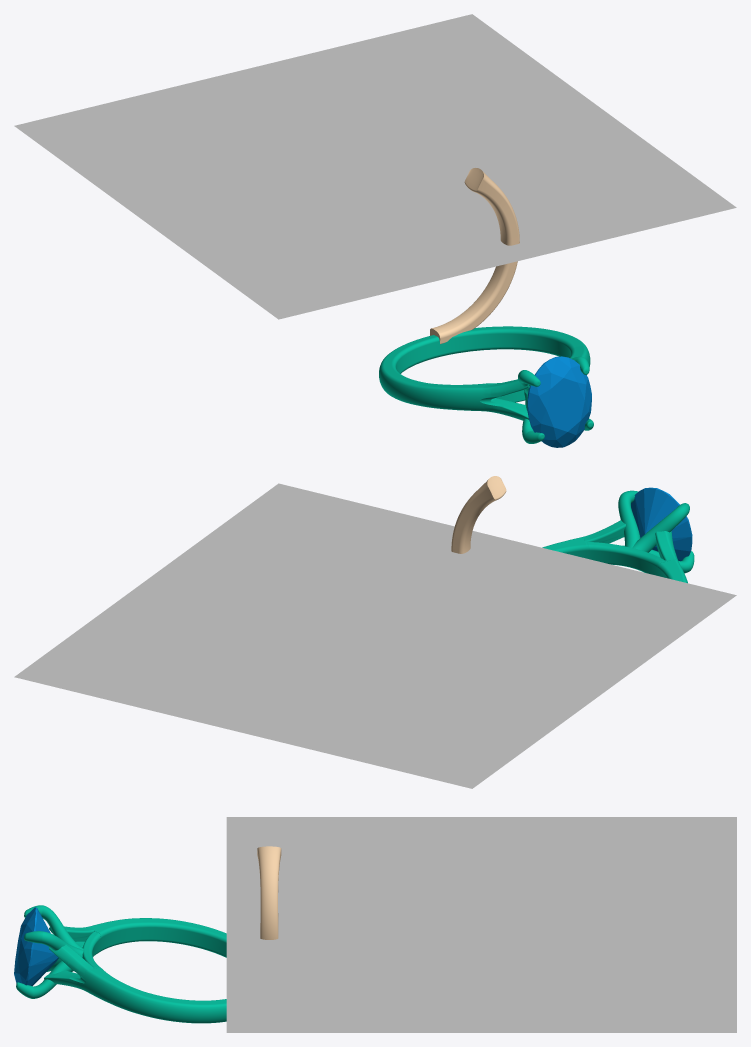
3 renders of one model, top to bottom at view 1: azimuth 30°, elevation 25°; view 2: azimuth 150°, elevation 25°; view 3: azimuth 270°, elevation 25°, orthographic. The views are drawn at different scales.
Visible parts, largest first — view 1: VR401(base).3dm, Diamond_Oval; view 2: VR401(base).3dm, Diamond_Oval; view 3: VR401(base).3dm, Diamond_Oval.
Boxes of the visible parts, box(x1,y1,x2,y2) form: VR401(base).3dm: box(14, 14, 736, 443); Diamond_Oval: box(527, 356, 591, 447); VR401(base).3dm: box(14, 476, 736, 788); Diamond_Oval: box(631, 487, 692, 561); VR401(base).3dm: box(16, 817, 736, 1032); Diamond_Oval: box(14, 907, 58, 985).
Size of what is drawn, in the model's own units: 5.92 by 2.15 by 8.39.
